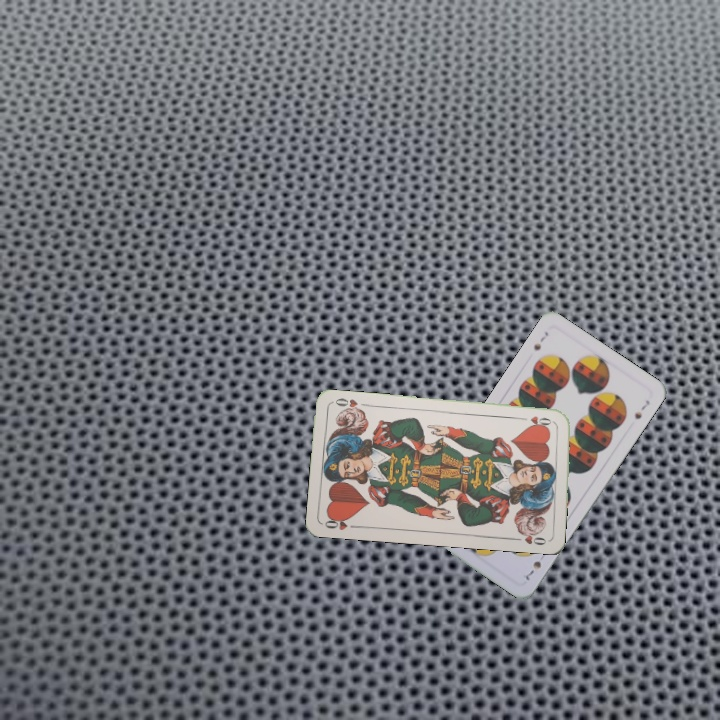HO: (321, 513, 361, 533), (518, 412, 558, 428)
S7: (521, 557, 544, 583), (529, 327, 551, 353)
